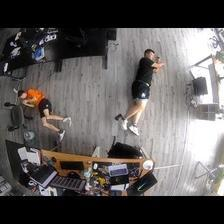fall: (117, 49, 163, 134), (18, 86, 77, 139)
